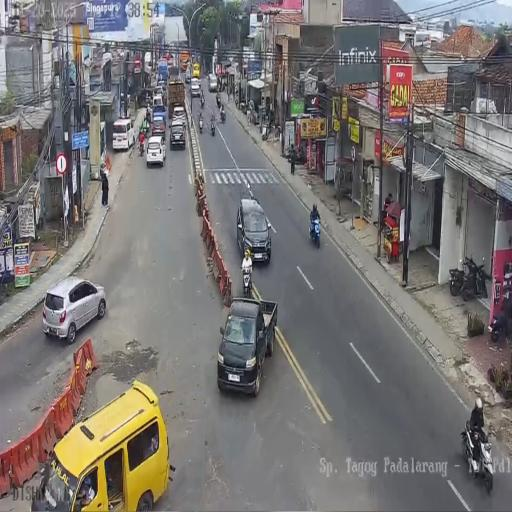3: (167, 64, 179, 86), (144, 51, 153, 76), (180, 52, 189, 72)
car: (30, 381, 169, 511), (216, 296, 277, 397), (41, 274, 105, 342), (236, 197, 272, 266), (111, 117, 136, 152), (145, 135, 166, 167), (170, 121, 186, 150), (152, 101, 167, 128), (120, 90, 131, 114), (140, 88, 153, 108), (156, 74, 167, 94), (190, 77, 201, 97), (208, 74, 218, 92), (193, 62, 200, 78), (185, 67, 191, 83)
truck: (461, 415, 493, 494), (489, 302, 511, 342), (462, 253, 480, 301), (449, 262, 465, 297), (309, 212, 321, 248), (241, 264, 253, 298), (289, 143, 306, 165), (140, 118, 150, 136), (138, 136, 145, 157), (262, 121, 269, 141), (210, 116, 216, 136), (220, 106, 225, 124), (198, 116, 203, 133), (216, 93, 221, 108), (200, 91, 205, 106), (164, 92, 167, 107)
